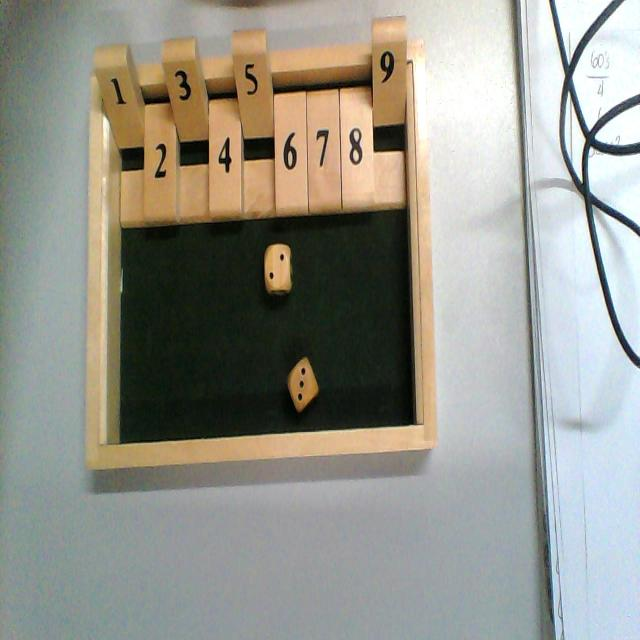2: (259, 236, 299, 302)
3: (284, 349, 324, 421)
C2: (142, 64, 179, 226)
C4: (208, 58, 244, 220)
C6: (274, 49, 309, 211)
C7: (305, 48, 342, 215)
C8: (341, 46, 375, 211)
O1: (94, 47, 143, 228)
O3: (163, 40, 210, 224)
O5: (232, 29, 277, 215)
O9: (372, 18, 409, 210)
